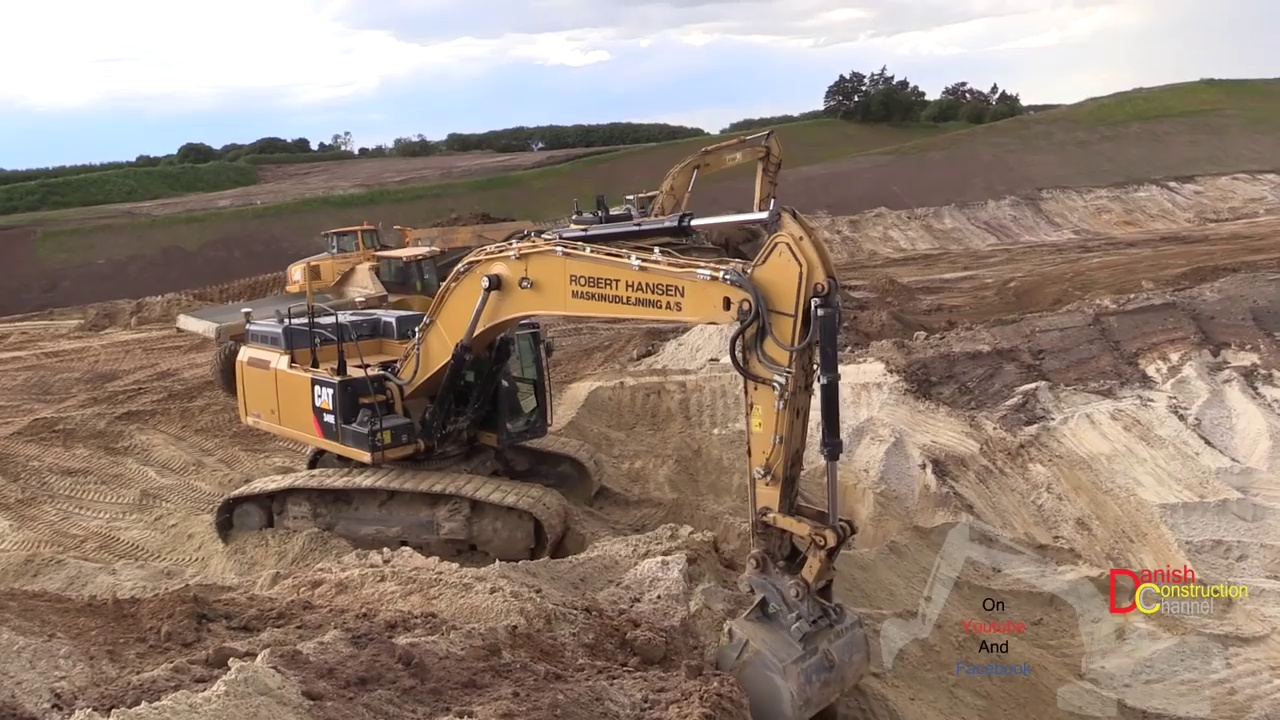dumper: (283, 217, 542, 299)
excavator: (214, 210, 874, 719), (575, 128, 795, 248)
